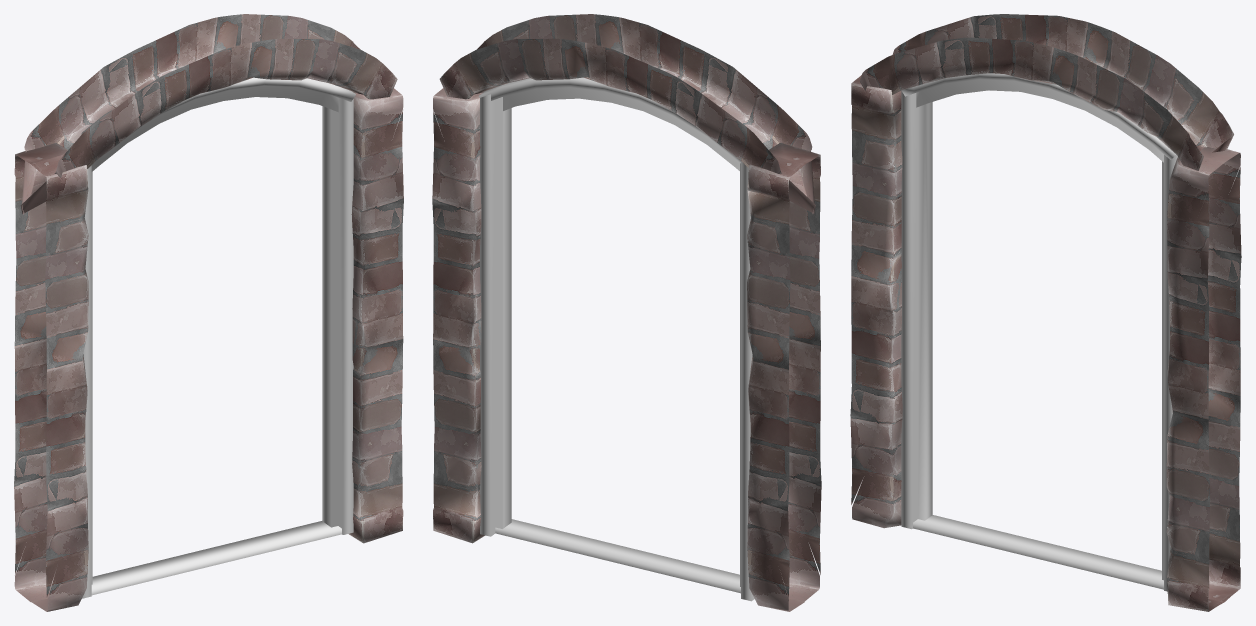
Rendered from Door_Wood_01_Frame_LOD0.fbx.
3 views of the same model, side by side, from view 1: azimuth 30°, elevation 25°; view 2: azimuth 150°, elevation 25°; view 3: azimuth 330°, elevation 25° (orthographic).
Parts seen in each view (by area): view 1: Door_Wood_01_Frame_LOD0; view 2: Door_Wood_01_Frame_LOD0; view 3: Door_Wood_01_Frame_LOD0.
Part boxes in pixels (left/top/right/bottom): Door_Wood_01_Frame_LOD0: left=14, top=14, right=403, bottom=611; Door_Wood_01_Frame_LOD0: left=432, top=14, right=821, bottom=611; Door_Wood_01_Frame_LOD0: left=850, top=14, right=1241, bottom=611.
Size of the model in its own units: 206 by 285 by 34.25.
